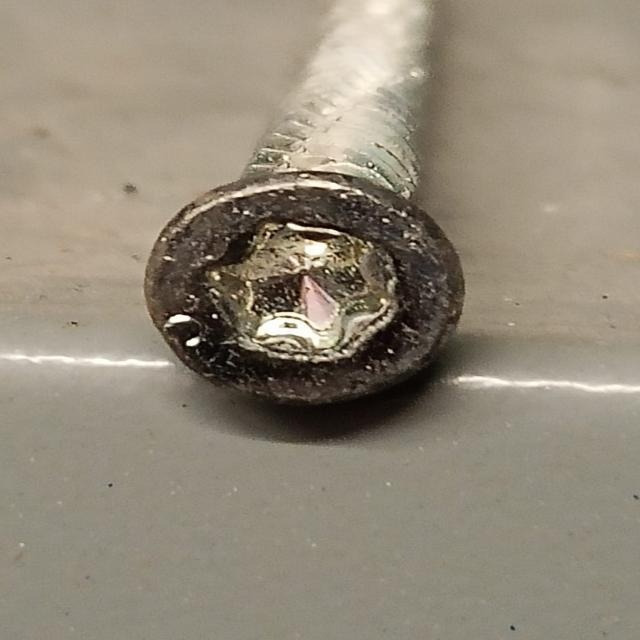torx: (141, 174, 468, 411)
